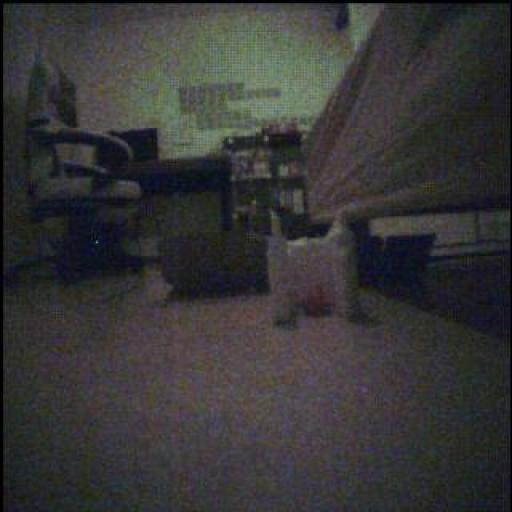basket: (302, 281, 331, 318)
